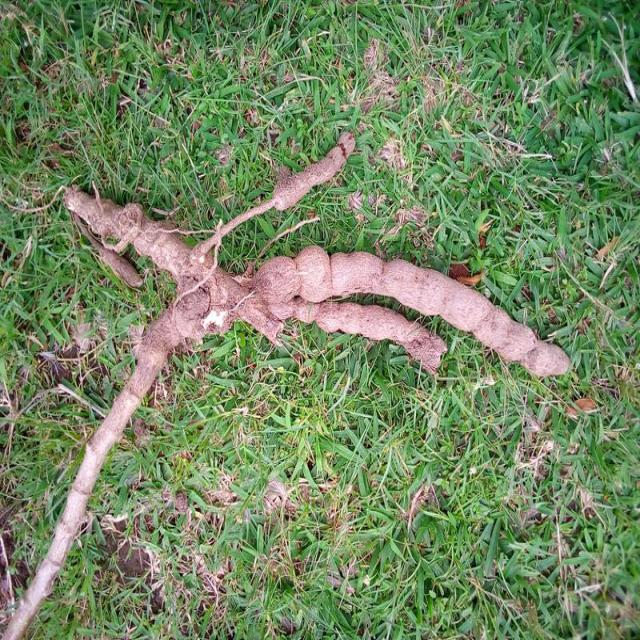cassava leaf: (4, 126, 574, 636)
